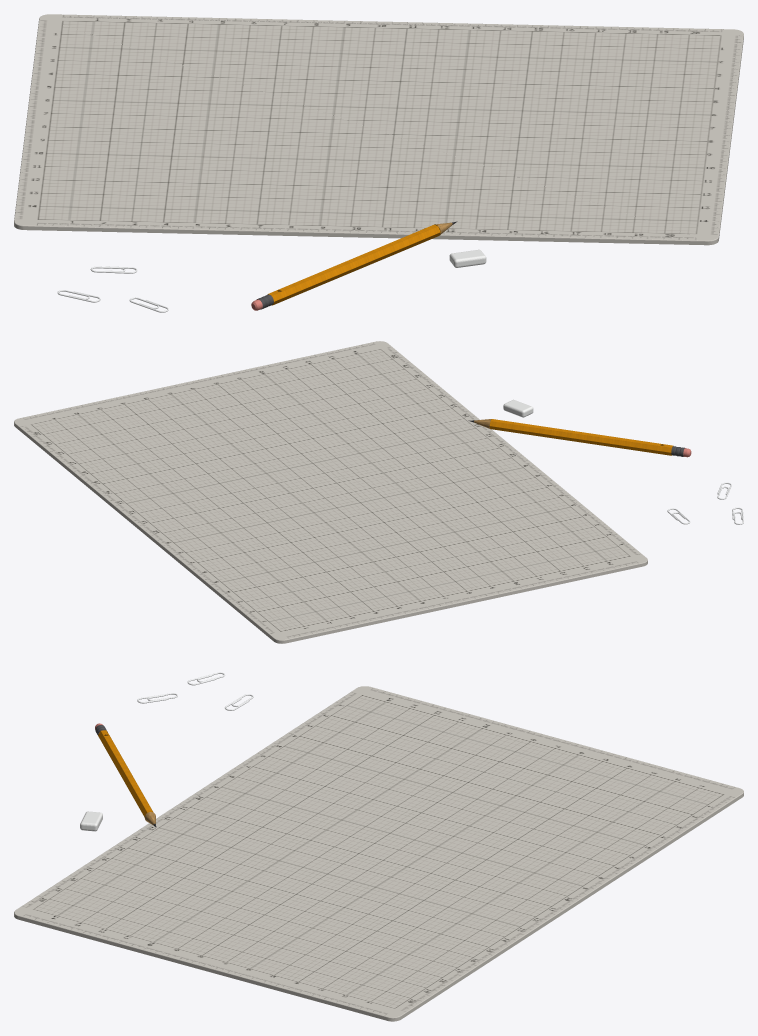
The model's file is oryzo_desk.glb.
The picture shows the model from 3 angles, top to bottom: view 1: azimuth 30°, elevation 25°; view 2: azimuth 150°, elevation 25°; view 3: azimuth 270°, elevation 25°; orthographic projection. The views are drawn at different scales.
Visible parts, largest first — view 1: CuttingMat, Pencil, Eraser; view 2: CuttingMat, Pencil; view 3: CuttingMat, Pencil.
Boxes of the visible parts, x1,y1,x2,y2 form: CuttingMat: [14, 14, 743, 245]; Pencil: [251, 221, 457, 310]; Eraser: [449, 249, 486, 267]; CuttingMat: [14, 341, 647, 643]; Pencil: [468, 419, 691, 457]; CuttingMat: [14, 686, 743, 1021]; Pencil: [95, 723, 156, 827].
Size of what is drawn, in the model's own units: 0.5732 by 0.0105 by 0.5081.
Materials: 8 (3 with a texture image).
